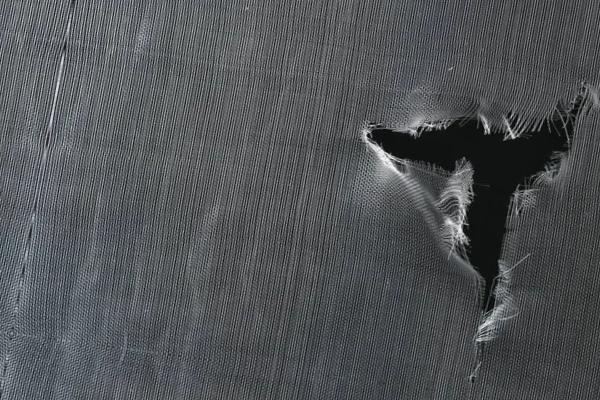hole: (354, 91, 589, 334)
